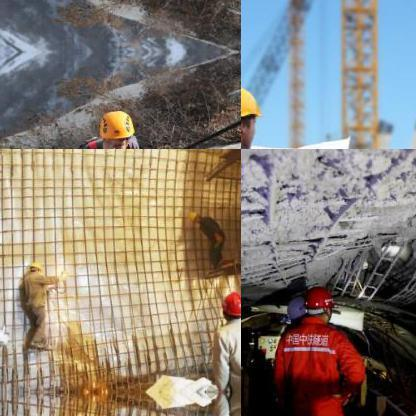Helmet: (93, 103, 138, 148), (241, 74, 265, 148), (300, 284, 334, 320), (220, 289, 240, 324), (28, 262, 42, 276), (188, 207, 200, 223)
